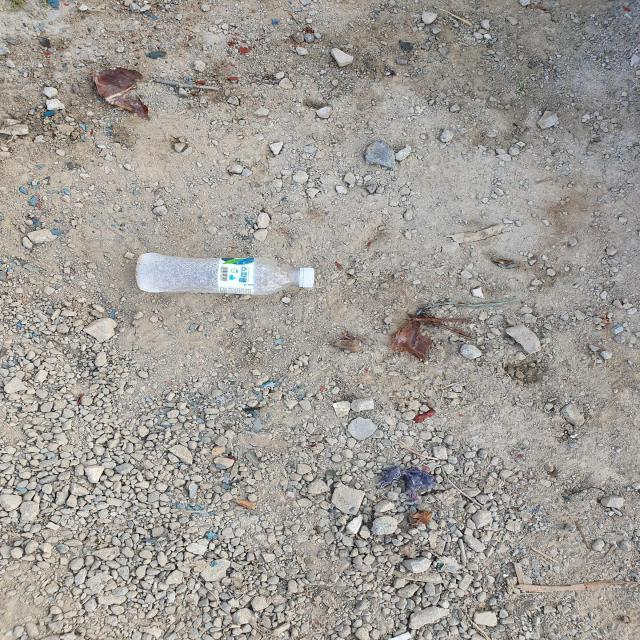plastic: (135, 253, 314, 295)
